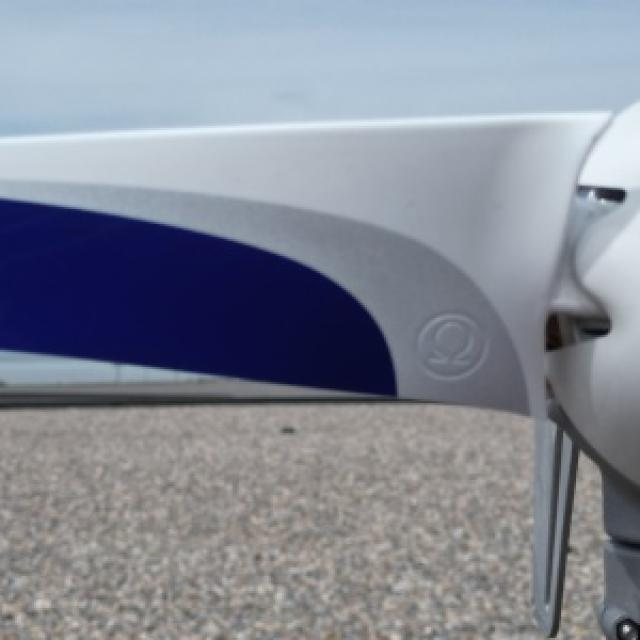healthy: (0, 100, 638, 638)
